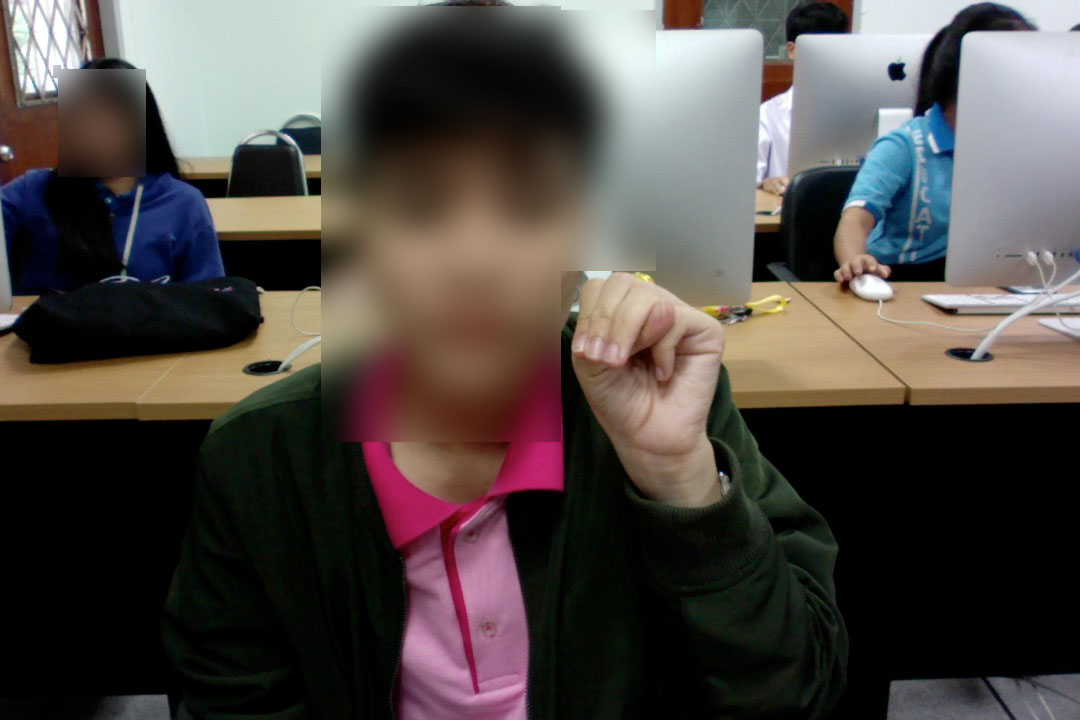mor: (564, 260, 731, 468)
